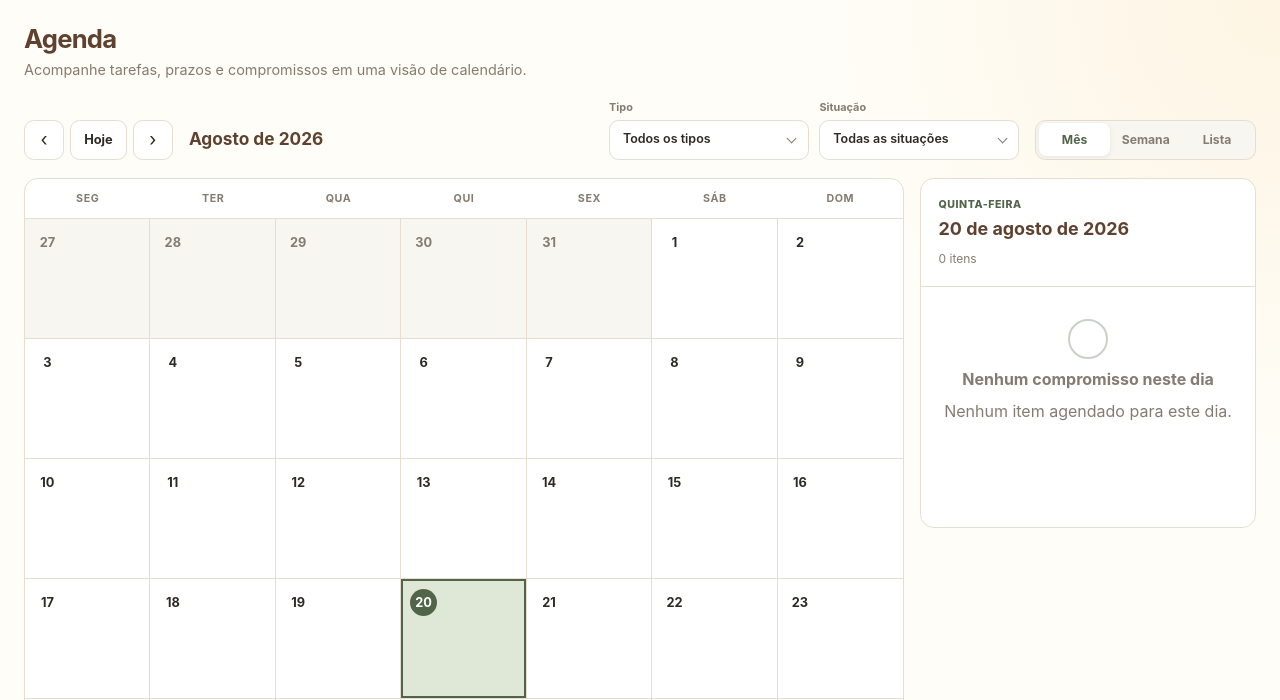
AgendaPage › navega para o proximo mes e recarrega agenda
Step 1. Click the button with test id "agenda-next-month" → (153, 140), box [133,120,173,160]
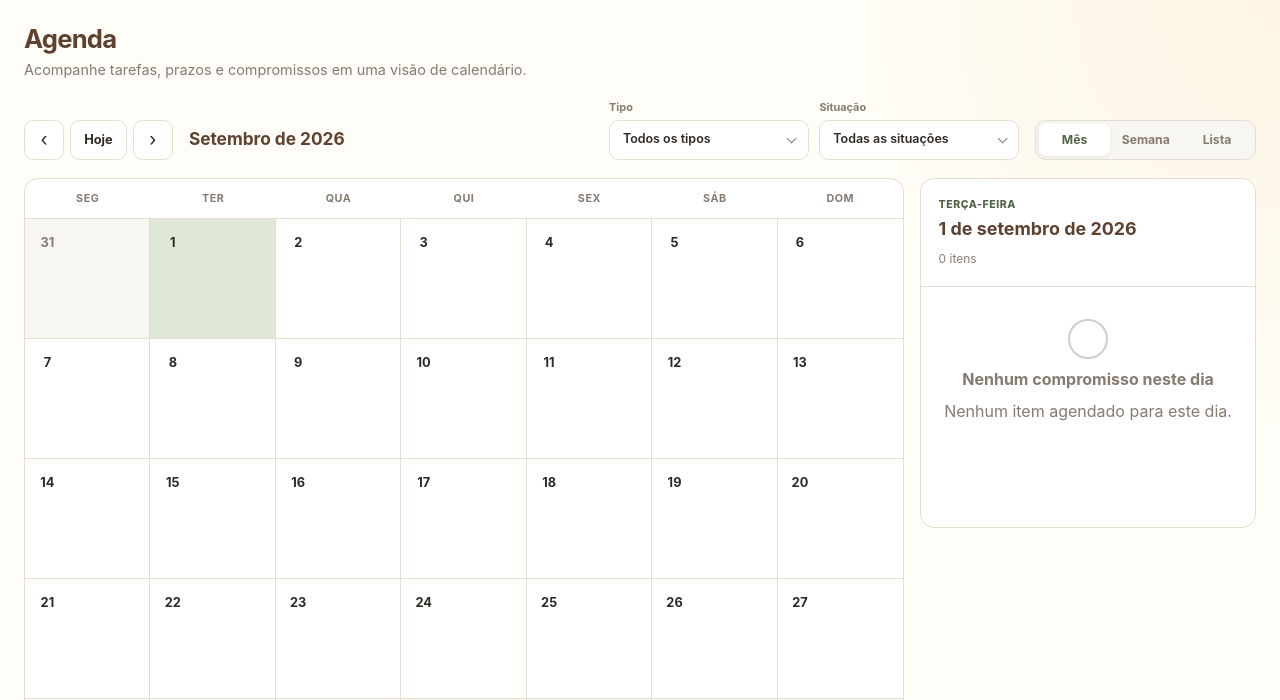
Expected: the text "Setembro de 2026" is shown, [189,129,345,150]
